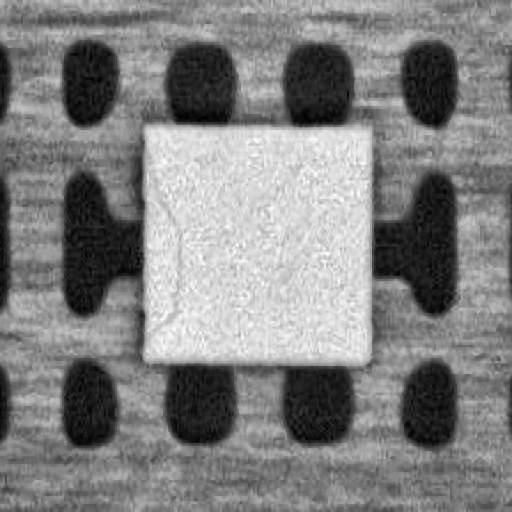DIE_CRACK: (143, 146, 179, 332)
